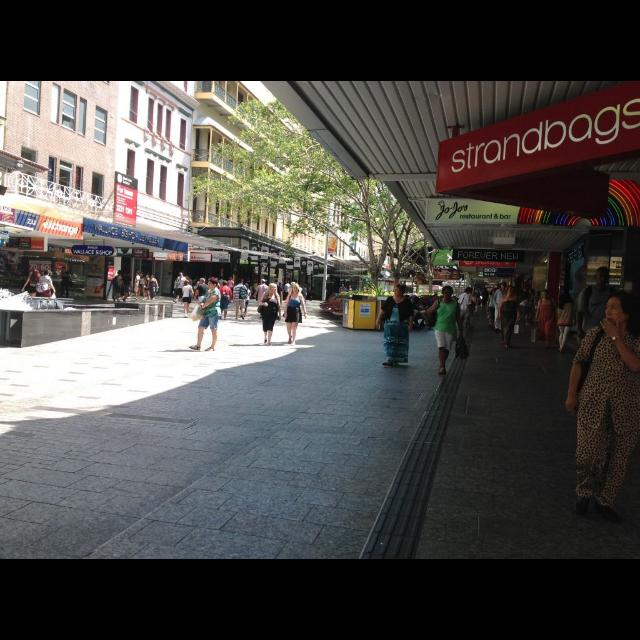head: (606, 290, 636, 326), (595, 268, 611, 286), (442, 286, 454, 302), (394, 284, 406, 298), (208, 278, 218, 290), (506, 286, 516, 296), (293, 284, 301, 294), (559, 294, 569, 302), (269, 284, 277, 292), (500, 282, 508, 290), (542, 292, 550, 300), (526, 294, 532, 302), (33, 269, 39, 275), (44, 270, 50, 276), (200, 279, 206, 285), (222, 281, 228, 287), (238, 279, 244, 285), (244, 284, 250, 290), (274, 278, 280, 284), (466, 288, 472, 294), (492, 289, 498, 295), (136, 271, 140, 277), (180, 272, 184, 278), (185, 280, 189, 286), (214, 278, 218, 284), (246, 279, 252, 283), (483, 288, 489, 292), (63, 268, 67, 272), (118, 271, 122, 275), (126, 272, 130, 276), (140, 273, 144, 277), (146, 276, 150, 280), (150, 274, 154, 278), (176, 277, 180, 281), (220, 276, 224, 280), (262, 280, 266, 284), (286, 282, 290, 284), (304, 286, 308, 288), (342, 285, 344, 289), (230, 278, 232, 280), (255, 281, 257, 283), (350, 289, 352, 291)
person: (575, 266, 625, 384), (426, 284, 470, 376), (376, 282, 414, 368), (188, 276, 222, 352), (282, 283, 308, 347), (498, 284, 522, 350), (257, 283, 281, 347), (532, 290, 558, 348), (556, 292, 578, 354), (516, 292, 538, 334), (492, 280, 508, 334), (21, 268, 43, 306), (36, 269, 58, 307), (456, 286, 474, 330), (253, 278, 271, 320), (487, 287, 503, 331), (233, 278, 249, 320), (270, 277, 284, 321), (181, 280, 197, 318), (195, 278, 211, 316), (218, 280, 232, 322), (60, 266, 76, 298), (172, 272, 188, 304), (240, 282, 252, 318), (111, 270, 123, 302), (122, 271, 134, 303), (136, 272, 148, 300), (148, 273, 160, 301), (133, 270, 143, 300), (212, 278, 222, 308), (480, 286, 490, 314), (172, 276, 182, 300), (283, 280, 293, 304), (227, 276, 235, 304), (144, 274, 152, 300), (218, 276, 226, 300), (338, 284, 348, 302), (245, 278, 253, 298), (252, 280, 260, 300), (346, 286, 354, 302), (302, 284, 308, 304)
